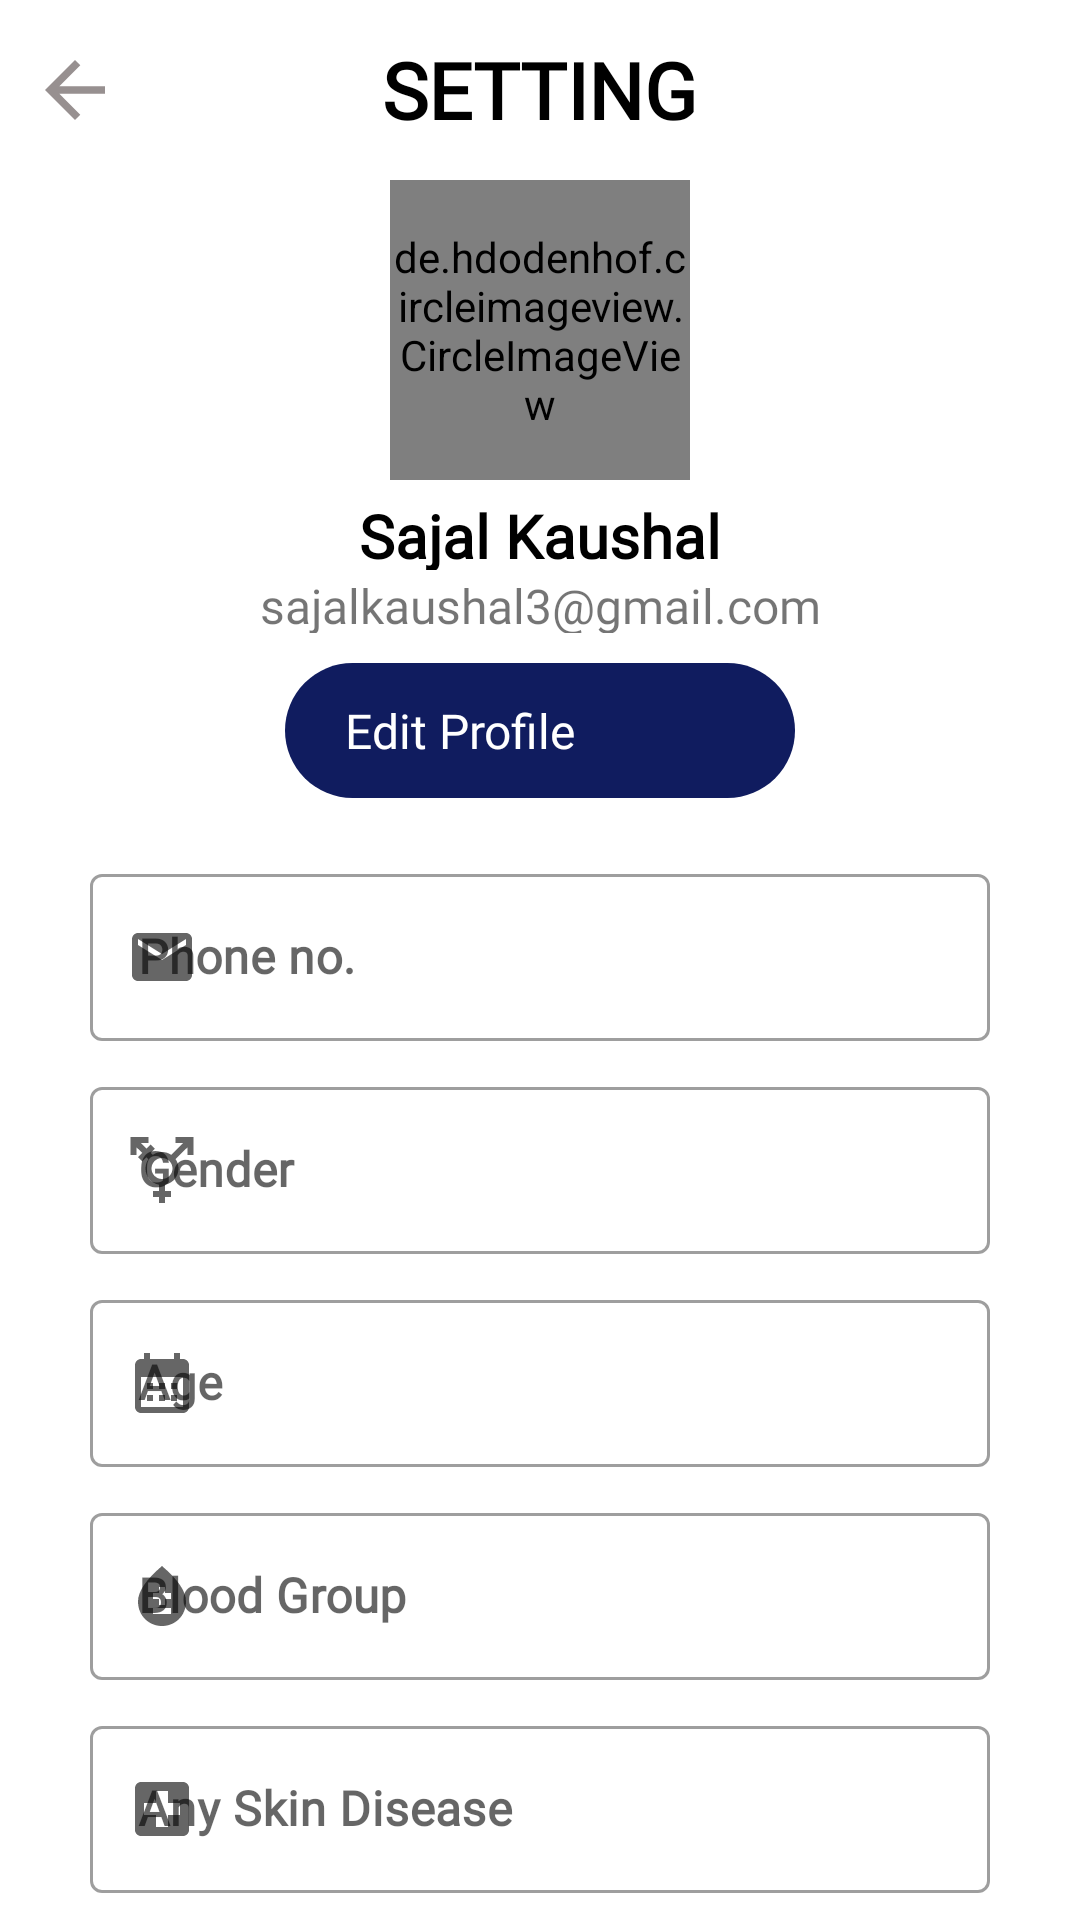

Locate icon controls on the screen. Image size 1080 x 1920, boxes as {"x1": x1, "y1": y1, "x2": x2, "y2": y2}.
arrow back: {"x1": 45, "y1": 60, "x2": 105, "y2": 120}
